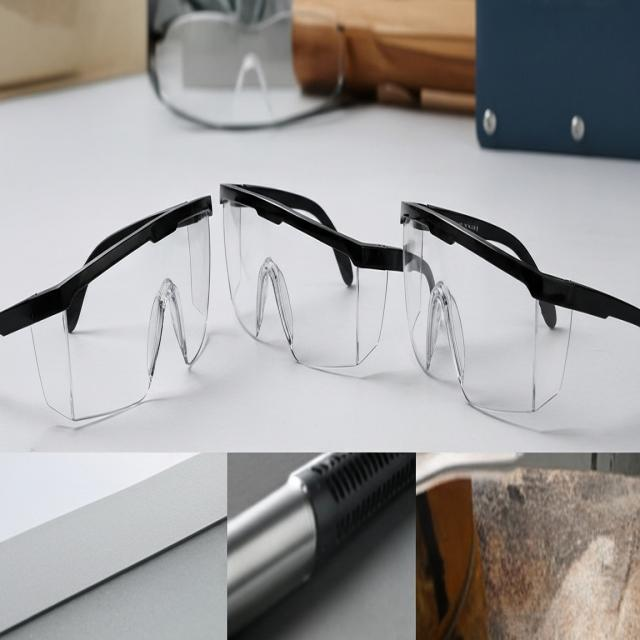oculos-epi: (220, 184, 640, 412), (0, 195, 212, 419)
